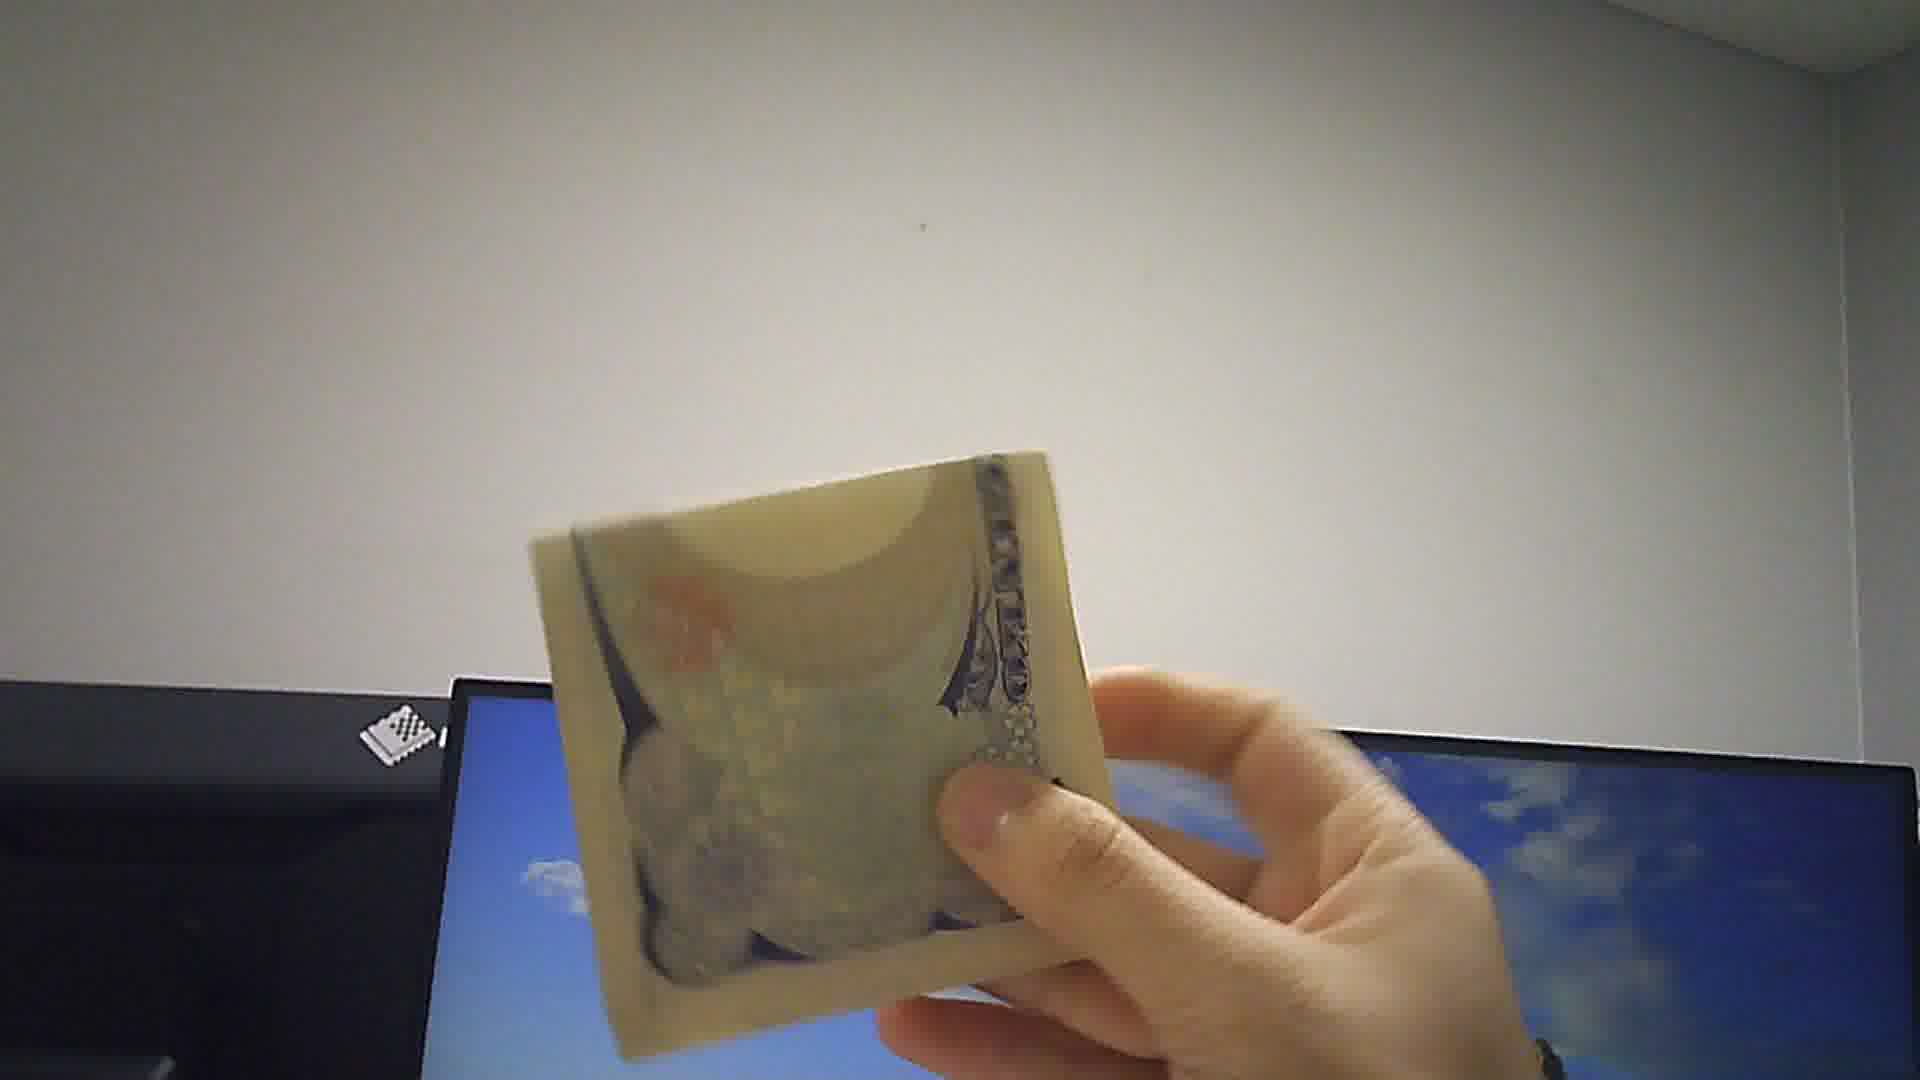1,000 Yen: (521, 442, 1116, 996)
